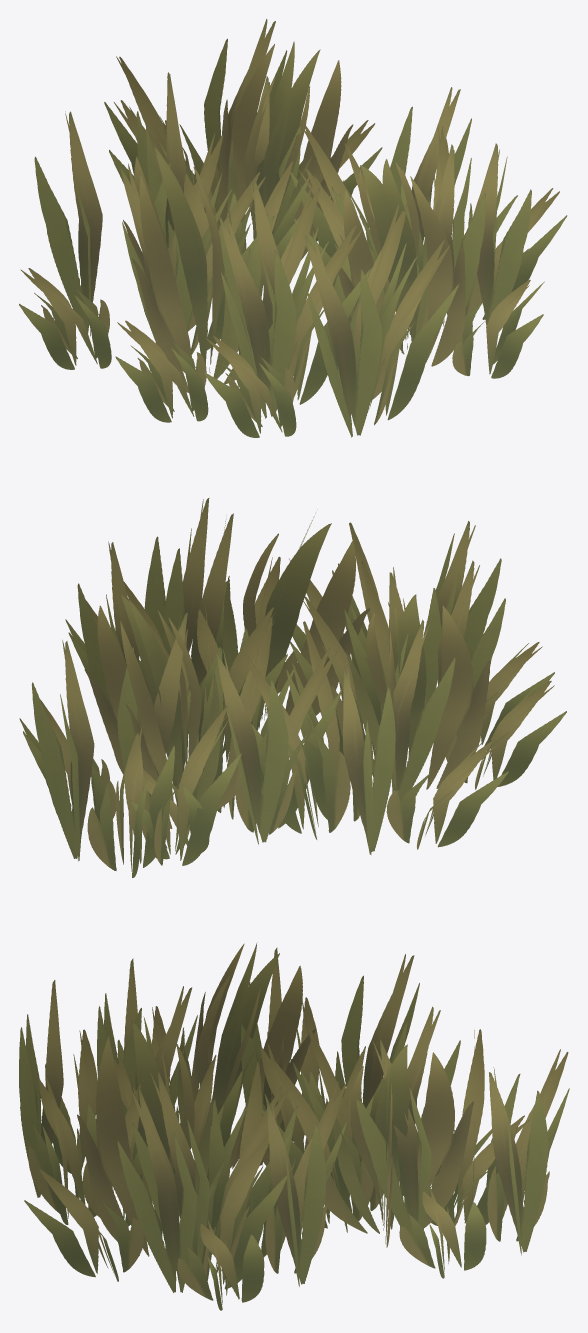
The model's file is F_SandWeed_G.FBX.
3 views of the same model, one above another, from view 1: azimuth 30°, elevation 25°; view 2: azimuth 150°, elevation 25°; view 3: azimuth 270°, elevation 25° (orthographic). The views are drawn at different scales.
Visible parts, largest first — view 1: F_SandWeed_G; view 2: F_SandWeed_G; view 3: F_SandWeed_G.
Part boxes in pixels (x1=…): F_SandWeed_G: x1=19, y1=19, x2=567, y2=437; F_SandWeed_G: x1=19, y1=498, x2=566, y2=877; F_SandWeed_G: x1=19, y1=942, x2=569, y2=1310.
Size of the model in its own units: 115 by 54.39 by 114.
Materials: 1 (1 with a texture image).
